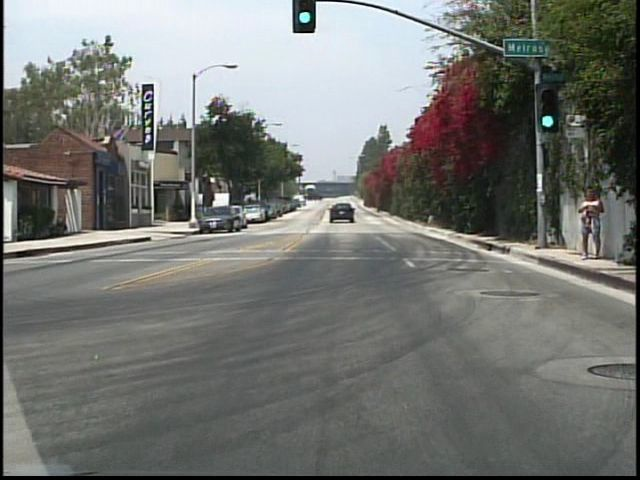person: (575, 188, 607, 262)
